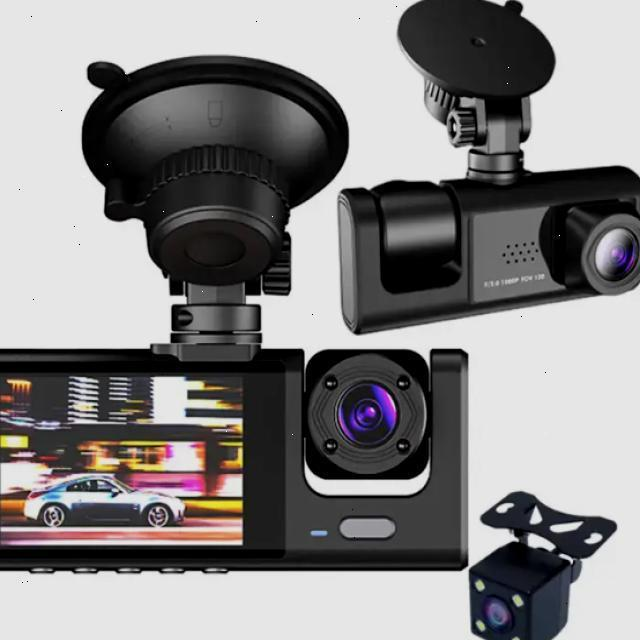camera: (303, 341, 446, 501), (567, 195, 640, 304), (461, 575, 578, 640)
